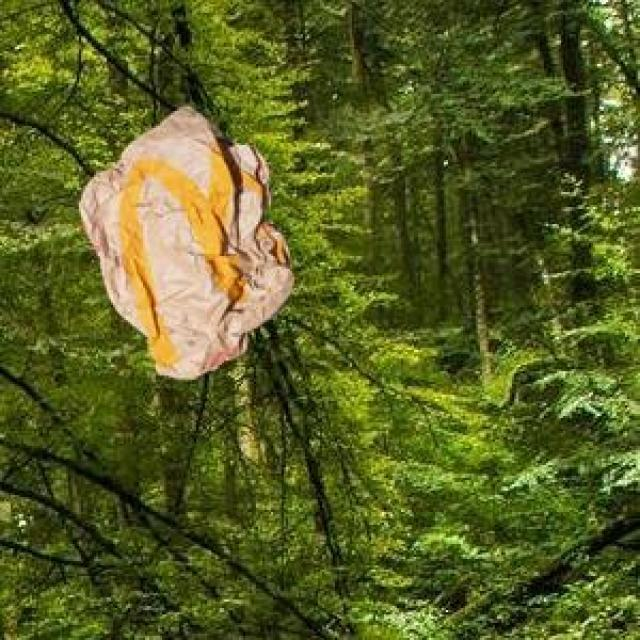paper: (75, 102, 290, 376)
